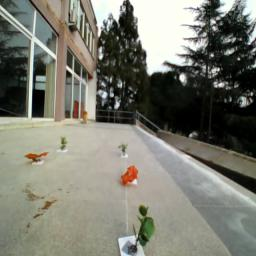herb: (133, 204, 157, 250), (119, 144, 130, 157), (61, 135, 69, 152)
wild: (121, 165, 140, 187), (26, 151, 50, 164)
